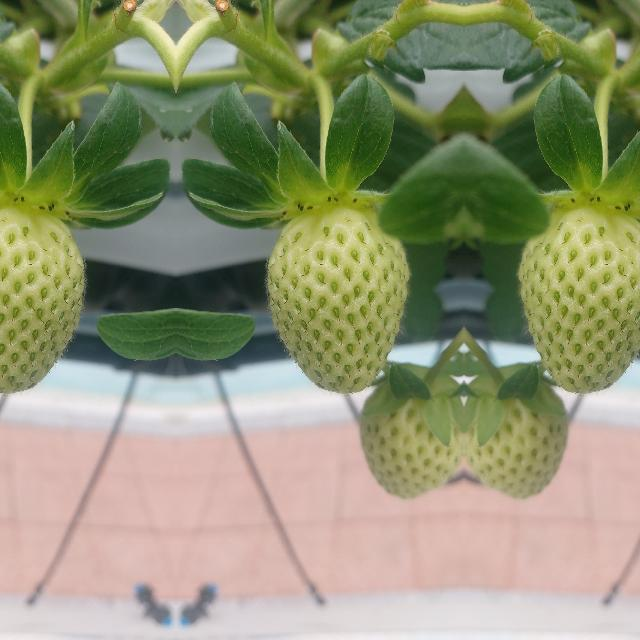Health_25: (266, 207, 408, 393), (518, 207, 640, 393), (0, 207, 84, 393), (358, 361, 462, 499), (464, 361, 568, 499)
